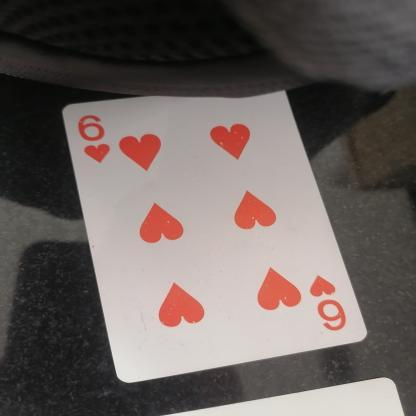6H: (296, 269, 361, 334), (79, 109, 116, 177)
